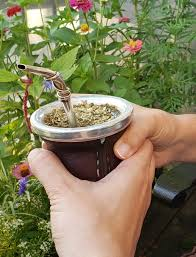guampa: (9, 62, 146, 204)
